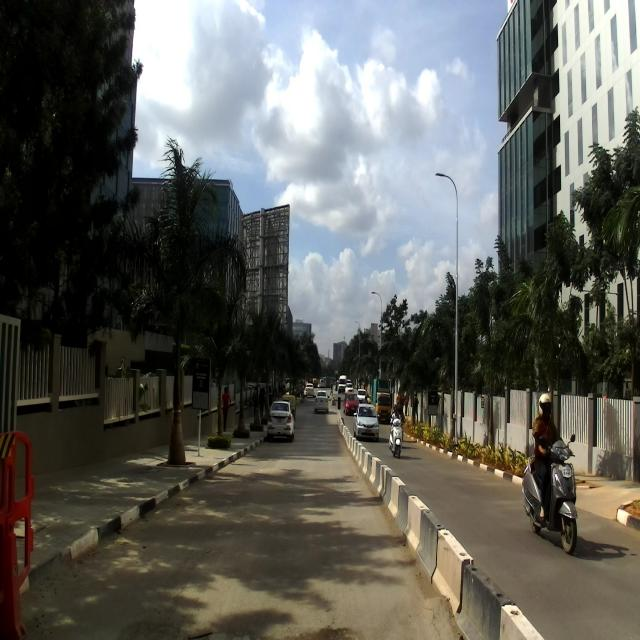Car_Maruti-Suzuki: (266, 396, 296, 439)
Car_Toyota: (354, 403, 381, 442)
scooter: (521, 430, 578, 556), (389, 413, 403, 457)
